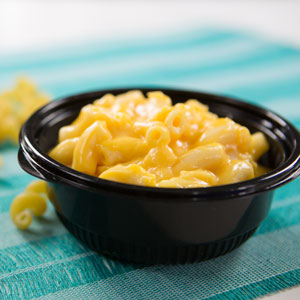macncheese: (47, 87, 268, 192)
